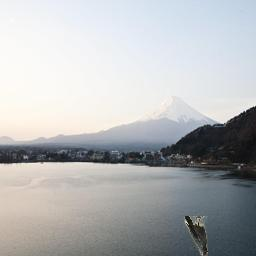Crow: (184, 216, 208, 256)
